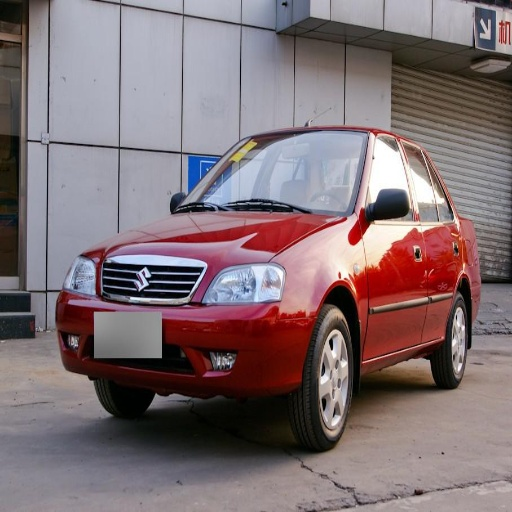front_bumper: (60, 256, 310, 398)
front_glass: (173, 131, 368, 214)
front_left_door: (363, 135, 428, 358)
